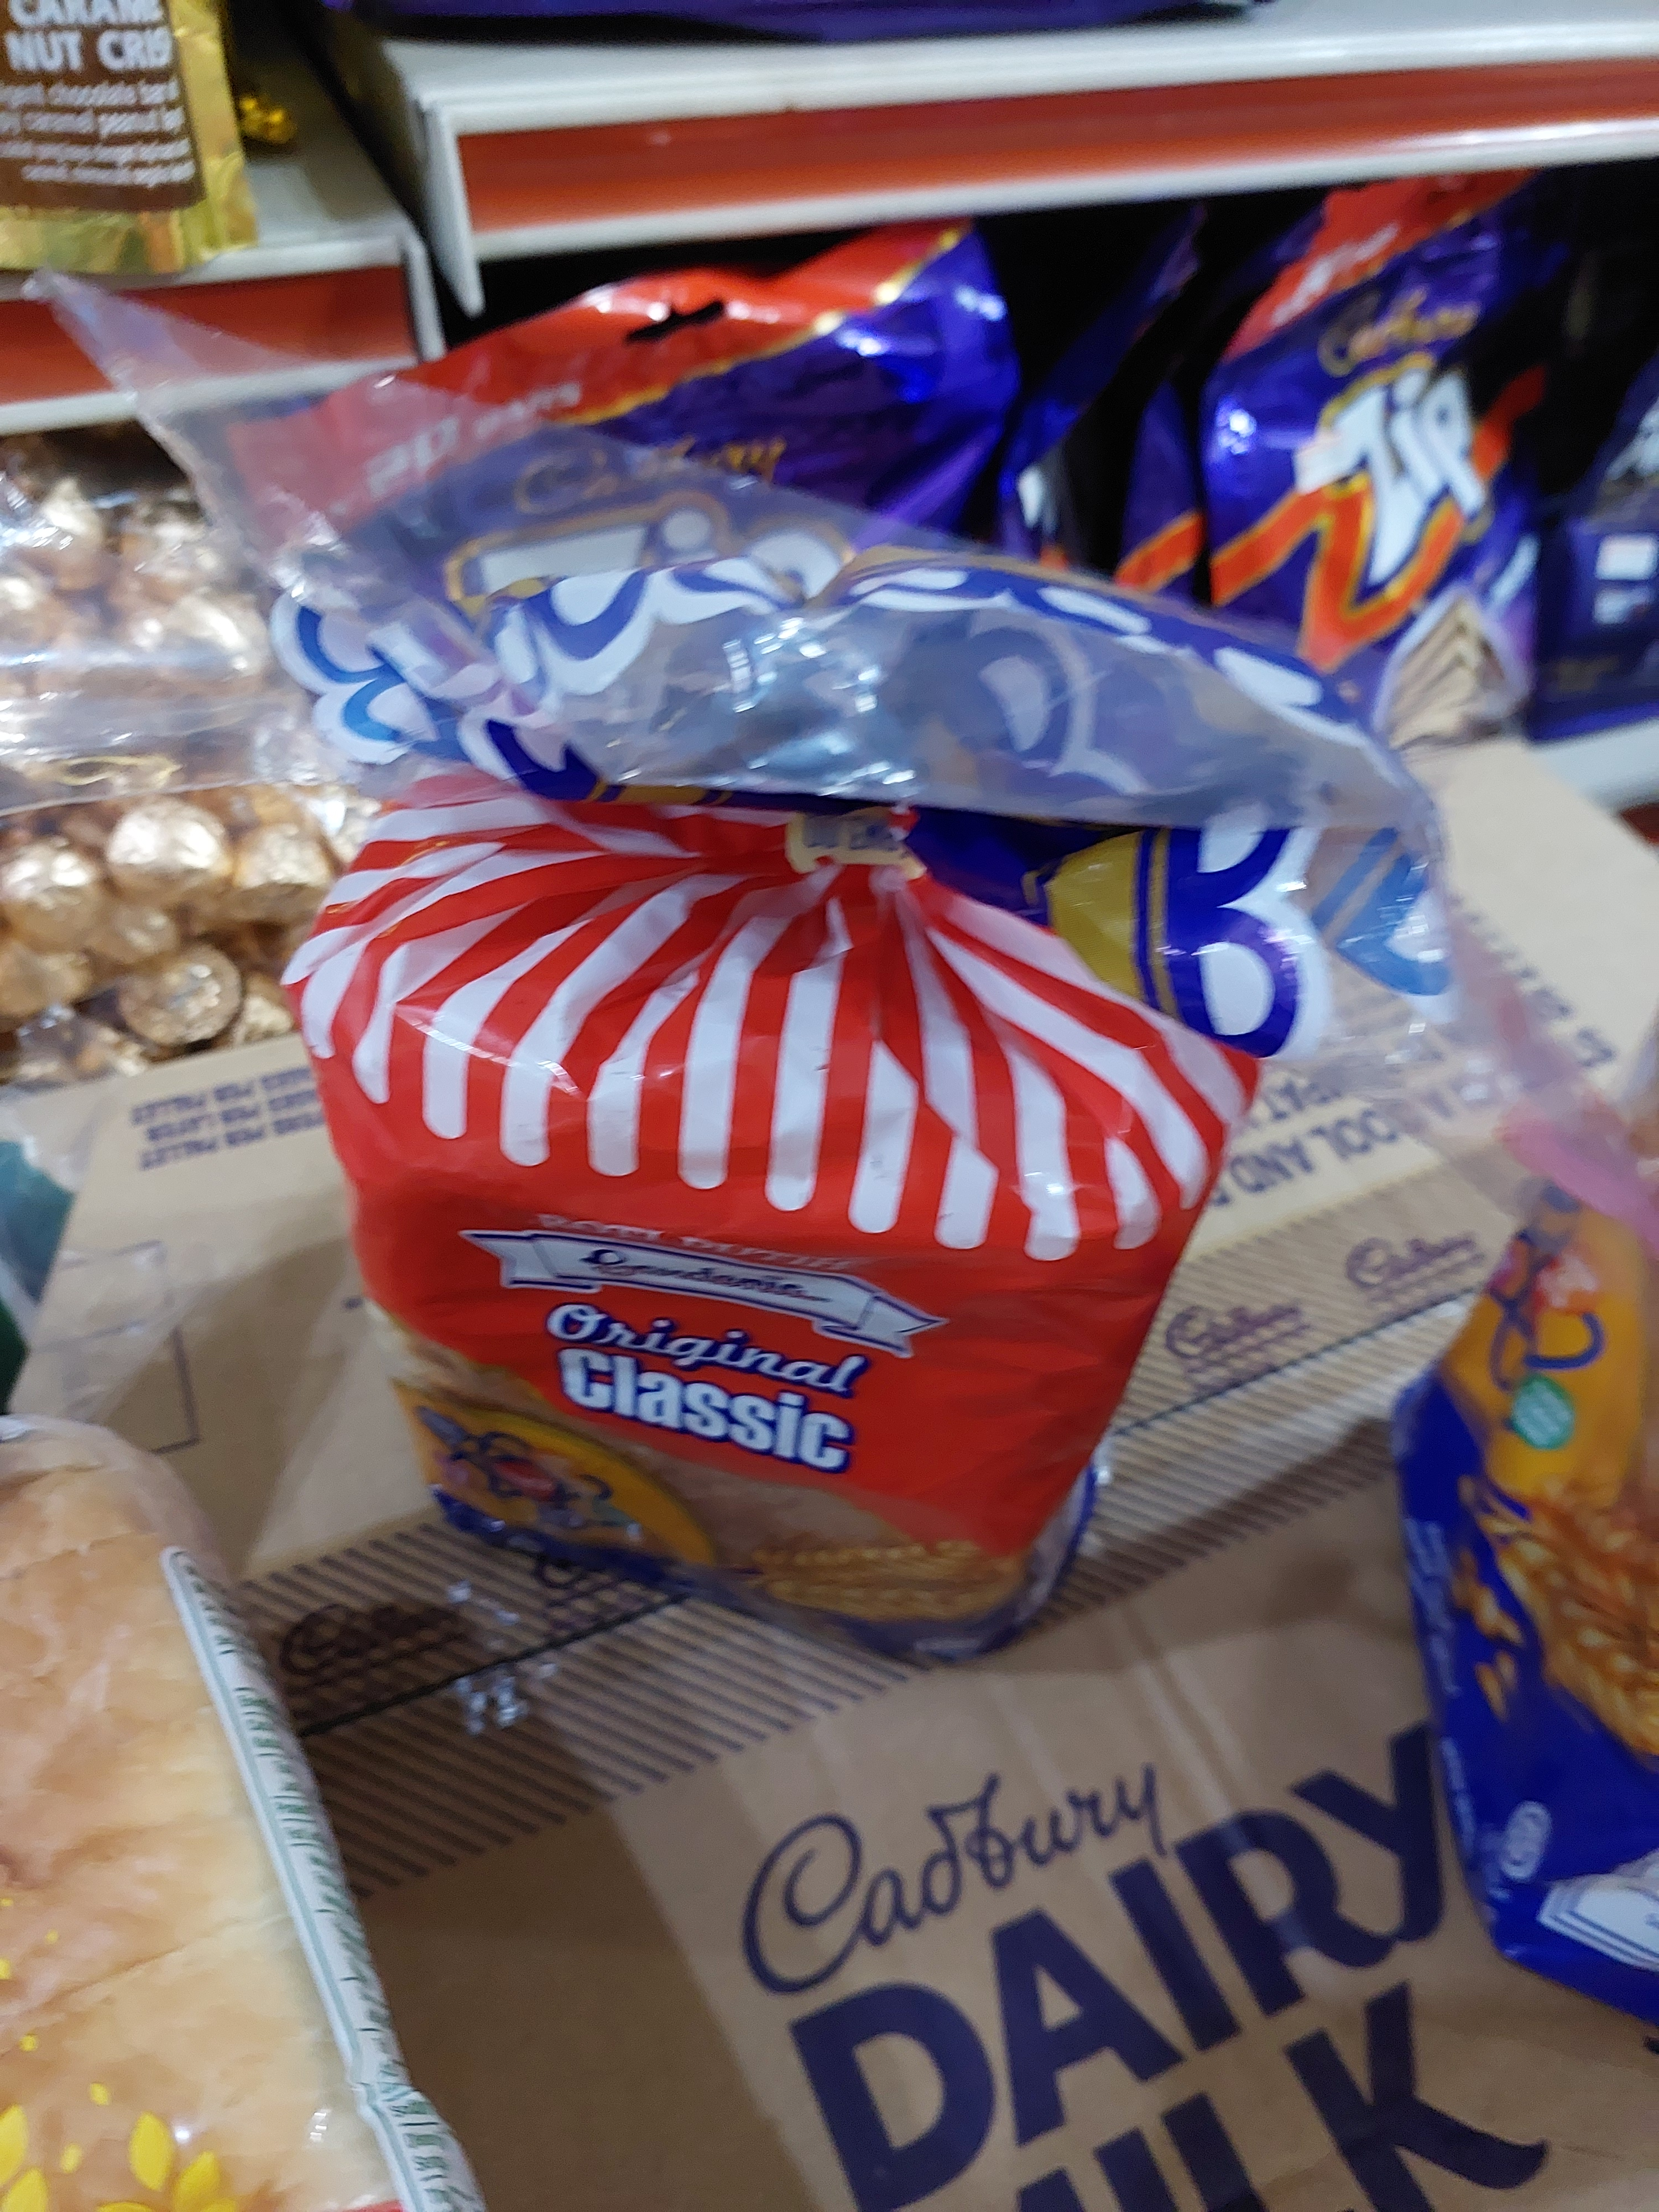bread: (288, 545, 1321, 1649)
